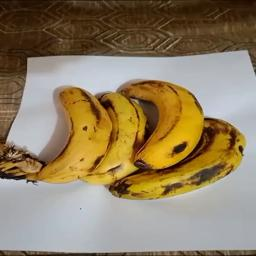Banana Semifresh: (20, 81, 111, 185), (128, 75, 201, 168), (104, 83, 144, 196)
